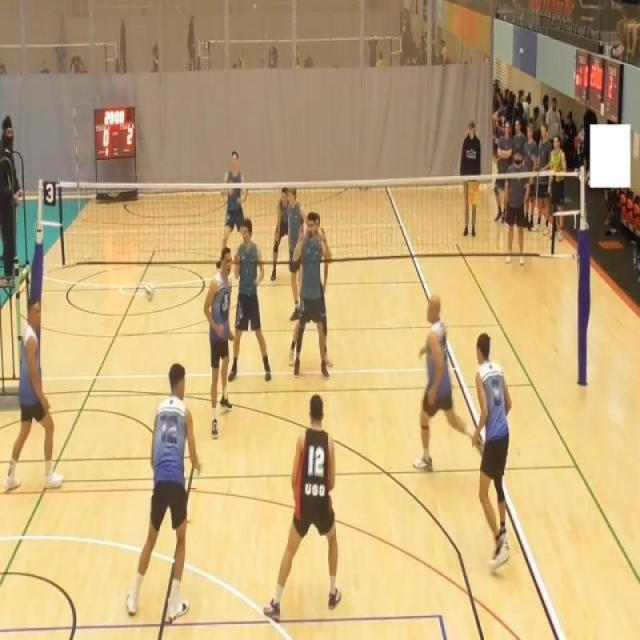volleyball: (144, 283, 156, 303), (252, 4, 258, 12)
